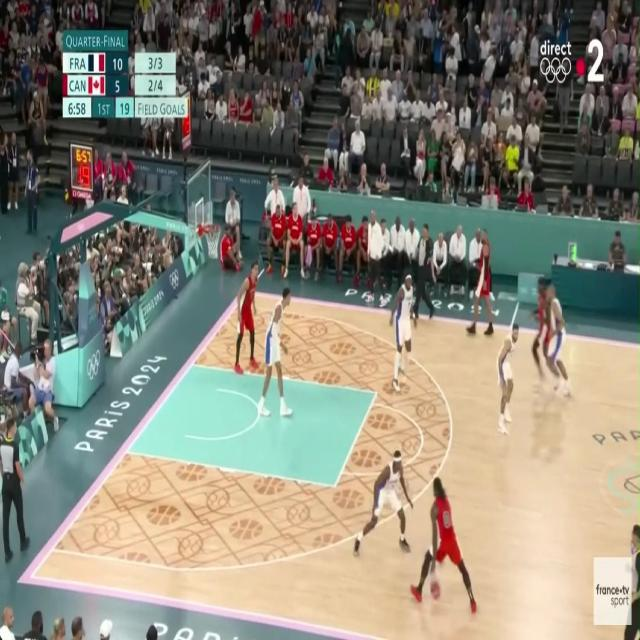ball_handler: (412, 474, 482, 622)
